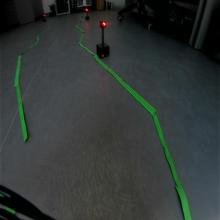red: (99, 20, 108, 28)
